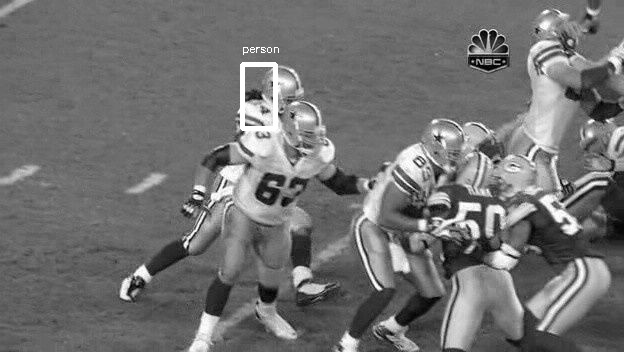person: (269, 67, 304, 111), (268, 67, 303, 111), (270, 67, 305, 111), (269, 66, 304, 110), (269, 68, 304, 112)
target_negative: (203, 36, 453, 339), (200, 287, 556, 347), (539, 21, 589, 203), (273, 306, 584, 332), (98, 177, 188, 237), (4, 258, 12, 299)
